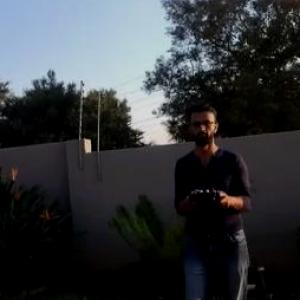follow: (167, 97, 258, 299)
